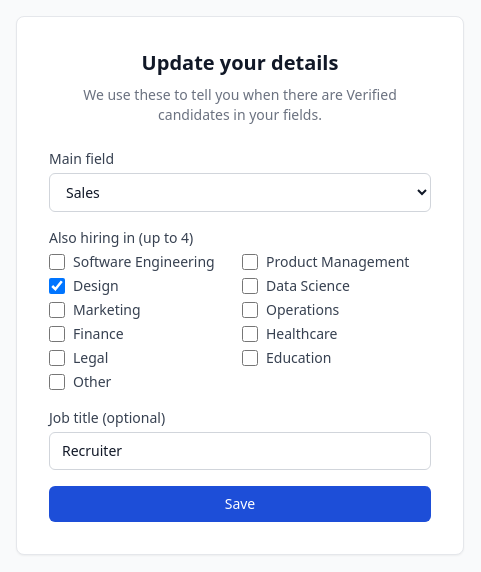
EmployerLeadPreferences › loads the current details, saves the edits and shows the saved state
This screenshot has width=481, height=572.
Expected: the field labelled "Job title (optional)" holds "Recruiter", top-left (49, 432), bottom-right (431, 470)
Select "Marketing" in the dropdown labelled "Main field": (240, 192) top-left (49, 172), bottom-right (431, 212)
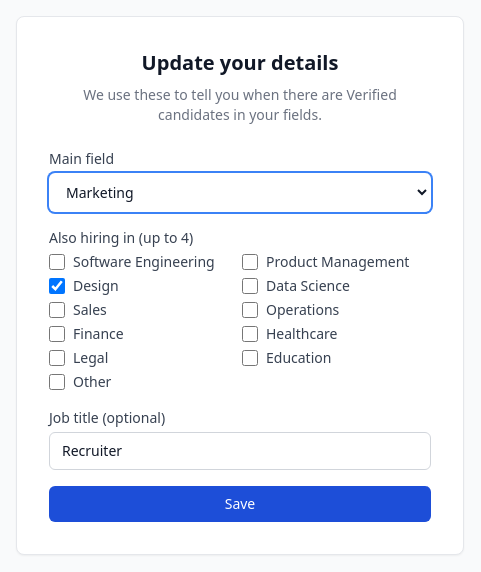
Click the button "Save": (240, 504) top-left (49, 486), bottom-right (431, 522)
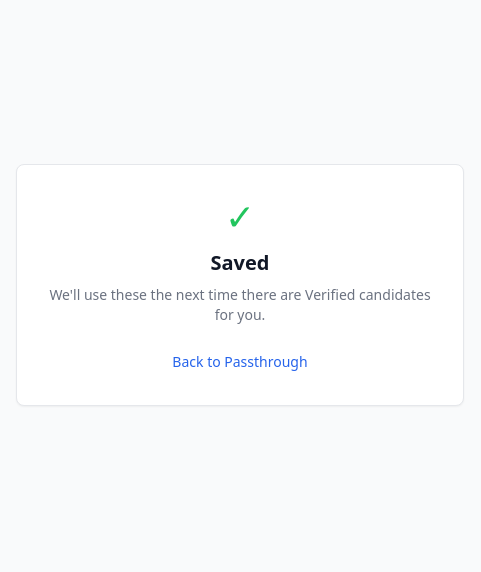
Expected: the heading "Saved" is shown, top-left (210, 249), bottom-right (270, 276)
